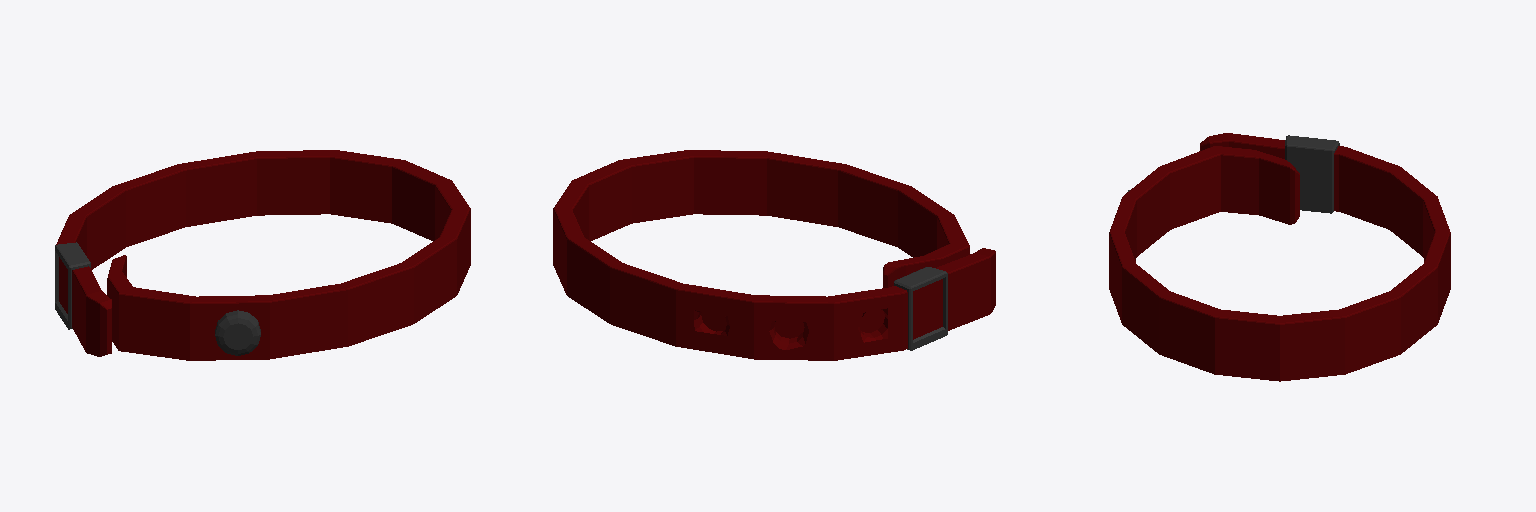
Rendered from collar.obj.
3 views of the same model, side by side, from view 1: azimuth 30°, elevation 25°; view 2: azimuth 150°, elevation 25°; view 3: azimuth 270°, elevation 25° (orthographic).
Parts seen in each view (by area): view 1: collar_Cylinder.006; view 2: collar_Cylinder.006; view 3: collar_Cylinder.006.
Part boxes in pixels (x1,y1,x2,y2): collar_Cylinder.006: (55, 150, 470, 360); collar_Cylinder.006: (553, 150, 995, 360); collar_Cylinder.006: (1109, 133, 1450, 381).
Size of the model in its own units: 2.07 by 0.3214 by 1.56.